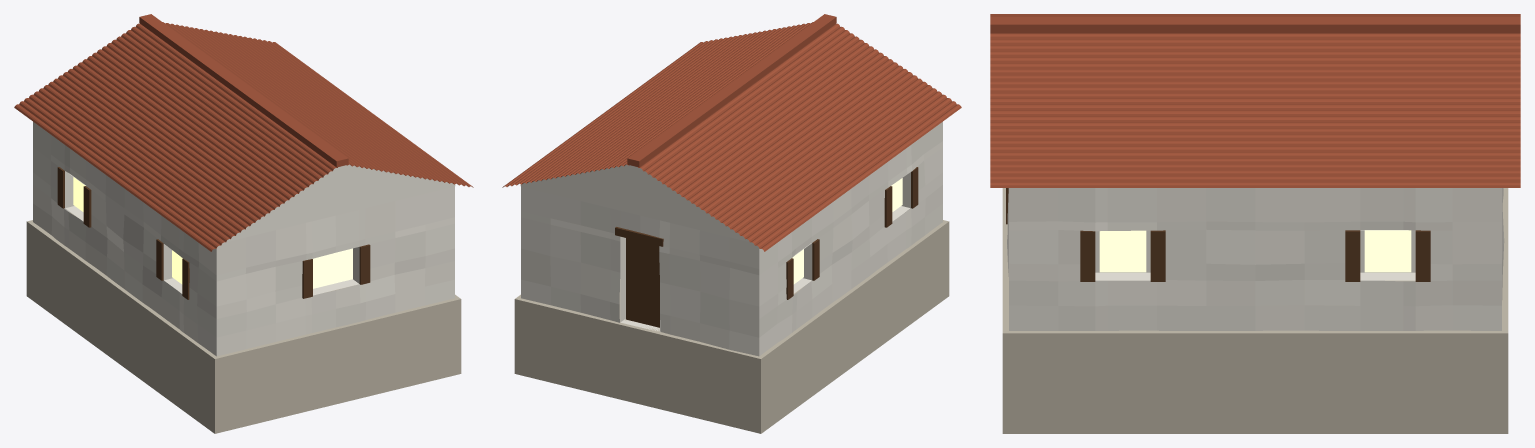
The model's file is house_b.glb.
3 views of the same model, side by side, from view 1: azimuth 30°, elevation 25°; view 2: azimuth 150°, elevation 25°; view 3: azimuth 270°, elevation 25° (orthographic). The views are drawn at different scales.
Parts seen in each view (by area): view 1: house_b, house_b_windows; view 2: house_b, house_b_windows; view 3: house_b, house_b_windows.
Boxes of the visible parts, left/top/right/bottom form: house_b: left=14, top=14, right=473, bottom=433; house_b_windows: left=73, top=177, right=352, bottom=288; house_b: left=502, top=14, right=961, bottom=433; house_b_windows: left=792, top=178, right=902, bottom=284; house_b: left=990, top=14, right=1520, bottom=433; house_b_windows: left=1099, top=230, right=1411, bottom=272.
Bounding box in the file's own units: 6.6 × 5.95 × 8.6.
